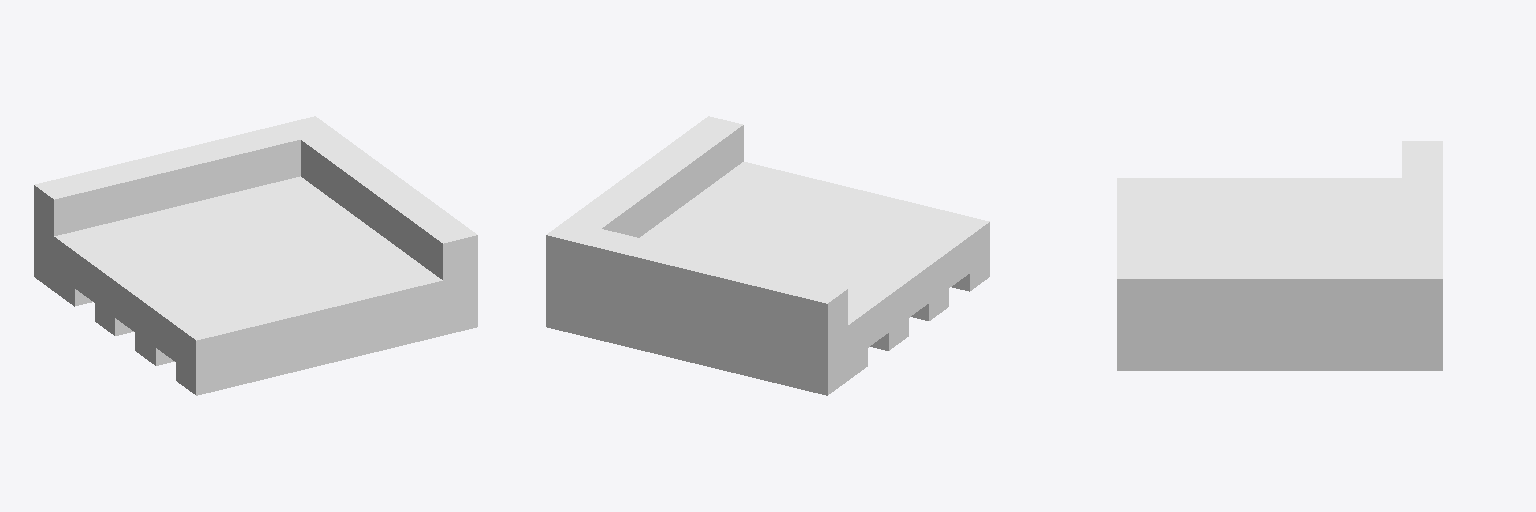
File: CeilingBitsCorner3.obj
The picture shows the model from 3 angles: view 1: azimuth 30°, elevation 25°; view 2: azimuth 150°, elevation 25°; view 3: azimuth 270°, elevation 25°; orthographic projection.
Visible parts, largest first — view 1: object 1; view 2: object 1; view 3: object 1.
Part boxes in pixels (x1,y1,x2,y2): object 1: (34,116,477,395); object 1: (546,116,989,395); object 1: (1117,141,1442,370).
Bounding box in the file's own units: 1.6 × 0.5 × 1.6.